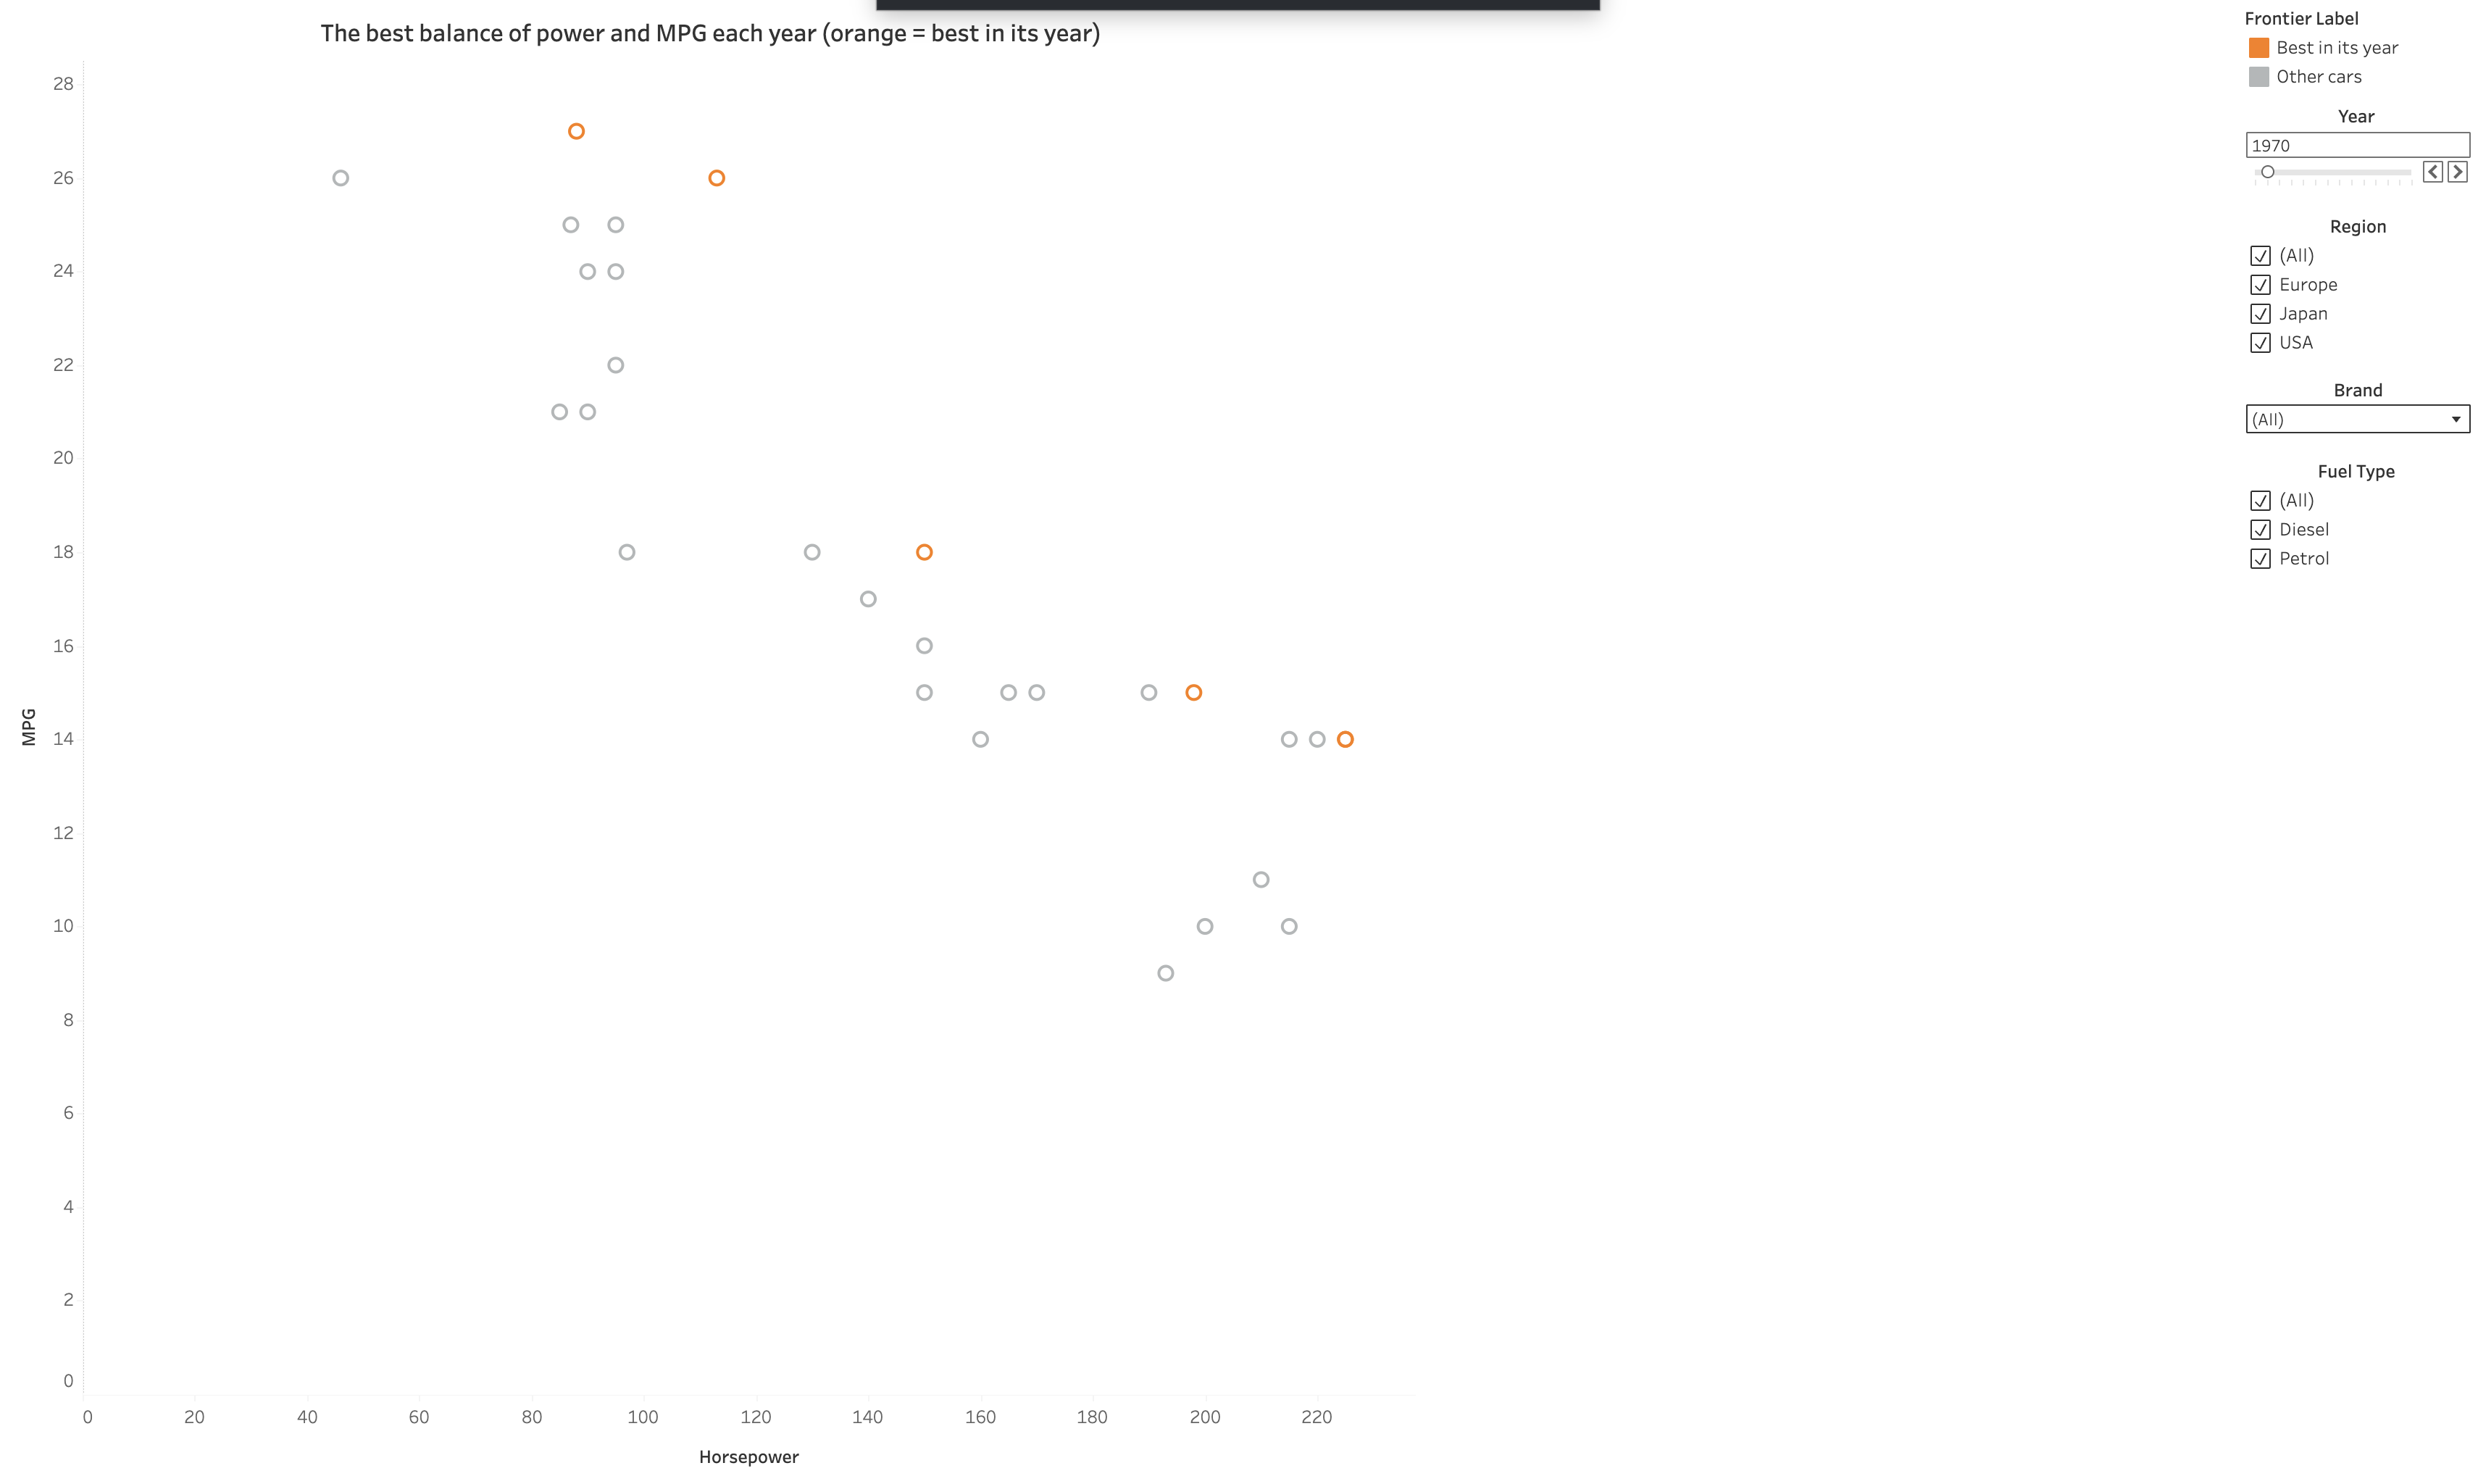

The page's visual inventory and layout, read from the dashboard file:
{"tool":"tableau","page":{"name":"Car Explorer","canvas":[1200,1000],"ordinal":0},"visuals":[{"type":"dashboard-object","box":[985,34,164,52]},{"type":"blank","box":[964,143,212,127]},{"type":"blank","box":[733,144,212,128]},{"type":"blank","box":[491,146,220,128]},{"type":"blank","box":[257,147,212,128]},{"type":"blank","box":[22,148,212,128]},{"type":"parameter","param":"[Parameters].[Parameter 0013664225984530]","box":[992,179,160,68]},{"type":"filter","title":"Frontier","param":"[federated.1mzey2f1rk8xc51ejm4r8129pq7d].[none:Calculation_0013664225431568:nk]","box":[760,180,160,68]},{"type":"filter","title":"Frontier","param":"[federated.1mzey2f1rk8xc51ejm4r8129pq7d].[none:Calculation_0013664225075212:nk]","box":[523,185,160,85]},{"type":"filter","title":"Frontier","param":"[federated.1mzey2f1rk8xc51ejm4r8129pq7d].[none:brand:nk]","box":[285,187,160,48]},{"type":"filter","title":"Frontier","param":"[federated.1mzey2f1rk8xc51ejm4r8129pq7d].[none:origin:nk]","box":[51,189,160,105]},{"type":"blank","box":[602,293,591,435]},{"type":"blank","box":[8,294,587,435]},{"type":"worksheet","title":"Weight vs MPG","mark":"Automatic","rows":["mpg"],"cols":["weight_kg"],"box":[600,295,596,428]},{"type":"worksheet","title":"Frontier","mark":"Automatic","rows":["mpg"],"cols":["horsepower"],"box":[7,296,589,430]},{"type":"legend","title":"Weight vs MPG","param":"[federated.1mzey2f1rk8xc51ejm4r8129pq7d].[sum:efficiency_gap:qk]","box":[1027,366,140,80]},{"type":"blank","box":[653,739,541,257]},{"type":"blank","box":[7,741,636,254]},{"type":"worksheet","title":"Standout cars","mark":"Bar","rows":["car_id","name","year"],"cols":["mpg"],"box":[6,750,635,253]},{"type":"worksheet","title":"Fuel Type","mark":"Automatic","rows":["Calculation_0013664225075212"],"cols":["mpg","efficiency_gap"],"box":[654,759,538,207]}]}

Visuals, with their boxes on the page's 1200x1000 design canvas (x1, y1, x2, y2). These are canvas units, not pixel positions in the 2478x1484 screenshot, which may show the page scaled, cropped or inside an application window:
dashboard-object: 985/34/1149/86
blank: 964/143/1176/270
blank: 733/144/945/272
blank: 491/146/711/274
blank: 257/147/469/275
blank: 22/148/234/276
parameter: 992/179/1152/247
"Frontier" filter: 760/180/920/248
"Frontier" filter: 523/185/683/270
"Frontier" filter: 285/187/445/235
"Frontier" filter: 51/189/211/294
blank: 602/293/1193/728
blank: 8/294/595/729
"Weight vs MPG" worksheet: 600/295/1196/723
"Frontier" worksheet: 7/296/596/726
"Weight vs MPG" legend: 1027/366/1167/446
blank: 653/739/1194/996
blank: 7/741/643/995
"Standout cars" worksheet (Bar marks): 6/750/641/1003
"Fuel Type" worksheet: 654/759/1192/966
